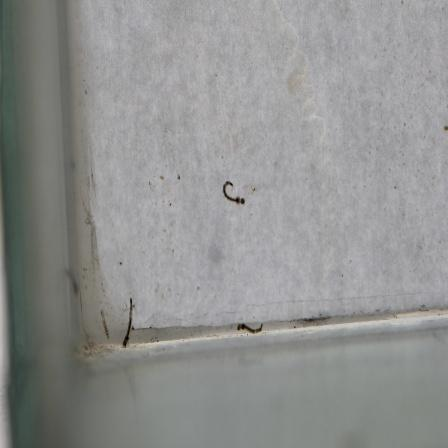Jentik-Nyamuk: (118, 295, 137, 350), (219, 178, 249, 207), (235, 318, 267, 337)
